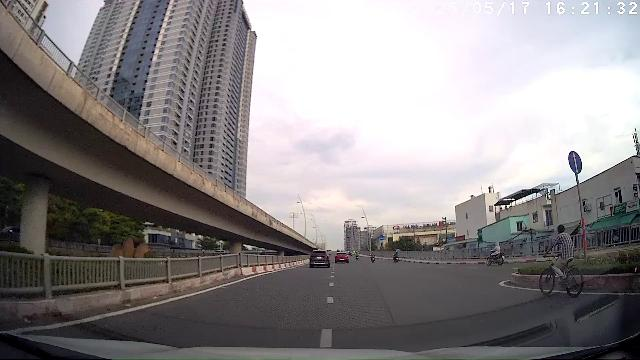301a-cac-xe-chi-duoc-di-thang: (568, 150, 584, 174)
